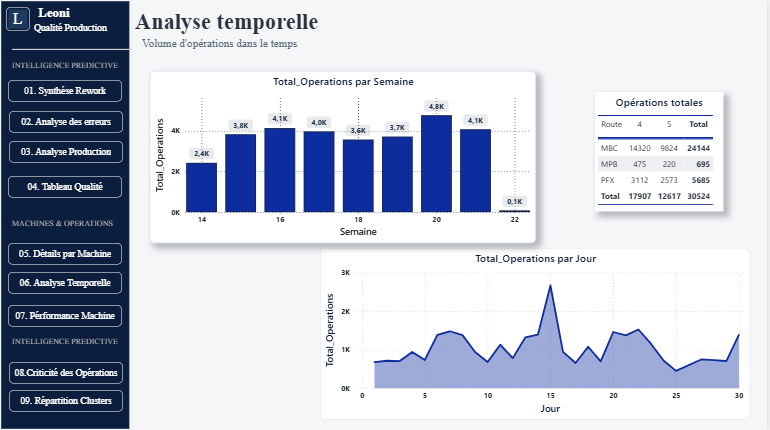

The dashboard page shown, as its layout file describes it:
{"tool":"powerbi","page":{"name":"Page 7","canvas":[1280,720],"ordinal":5},"visuals":[{"type":"areaChart","fields":{"Category":["Sheet1.Jour"],"Y":["Sheet1.Total_Operations"]},"box":[535.7,414.3,717.1,285.7],"z":0},{"type":"columnChart","fields":{"Category":["Sheet1.Semaine"],"Y":["Sheet1.Total_Operations"]},"box":[251.4,120,642.9,287.1],"z":1000},{"type":"pivotTable","title":"Opérations totales","fields":{"Rows":["Sheet1.Route"],"Values":["Sheet1.Total_Operations"],"Columns":["Sheet1.Mois"]},"box":[992.9,155.7,214.3,198.6],"z":2000},{"type":"shape","box":[0,0,221.4,720],"z":3000},{"type":"shape","box":[11.4,12.9,40,40],"z":4000},{"type":"textbox","box":[51.4,7.1,80,45.7],"z":5000},{"type":"textbox","box":[17.1,35.7,204.3,38.6],"z":6000},{"type":"shape","box":[21.4,22.9,200,121.4],"z":7000},{"type":"actionButton","box":[15.7,134.3,190,35.7],"z":8000},{"type":"actionButton","box":[17.1,187.1,190,35.7],"z":9000},{"type":"actionButton","box":[17.1,237.1,190,35.7],"z":10000},{"type":"actionButton","box":[15.7,294.3,190,35.7],"z":11000},{"type":"actionButton","box":[15.7,407.1,190,35.7],"z":12000},{"type":"actionButton","box":[15.7,454.3,190,35.7],"z":13000},{"type":"actionButton","box":[15.7,510,190,35.7],"z":14000},{"type":"actionButton","box":[17.1,604.3,190,35.7],"z":15000},{"type":"actionButton","box":[17.1,651.4,190,35.7],"z":16000},{"type":"textbox","box":[17.1,557.1,188.6,30],"z":17000},{"type":"textbox","box":[17.1,360,188.6,30],"z":18000},{"type":"textbox","box":[17.1,97.1,194.3,30],"z":19000},{"type":"textbox","box":[232.9,58.6,477.1,52.9],"z":20000},{"type":"textbox","box":[221.4,11.4,1041.4,74.3],"z":21000}]}

Visuals, with their boxes on the page's 1280x720 design canvas (x1, y1, x2, y2). These are canvas units, not pixel positions in the 770x430 screenshot, which may show the page scaled, cropped or inside an application window:
areaChart - Sheet1.Jour x Sheet1.Total_Operations: x1=536, y1=414, x2=1253, y2=700
columnChart - Sheet1.Semaine x Sheet1.Total_Operations: x1=251, y1=120, x2=894, y2=407
"Opérations totales" pivotTable: x1=993, y1=156, x2=1207, y2=354
shape: x1=0, y1=0, x2=221, y2=720
shape: x1=11, y1=13, x2=51, y2=53
textbox: x1=51, y1=7, x2=131, y2=53
textbox: x1=17, y1=36, x2=221, y2=74
shape: x1=21, y1=23, x2=221, y2=144
actionButton: x1=16, y1=134, x2=206, y2=170
actionButton: x1=17, y1=187, x2=207, y2=223
actionButton: x1=17, y1=237, x2=207, y2=273
actionButton: x1=16, y1=294, x2=206, y2=330
actionButton: x1=16, y1=407, x2=206, y2=443
actionButton: x1=16, y1=454, x2=206, y2=490
actionButton: x1=16, y1=510, x2=206, y2=546
actionButton: x1=17, y1=604, x2=207, y2=640
actionButton: x1=17, y1=651, x2=207, y2=687
textbox: x1=17, y1=557, x2=206, y2=587
textbox: x1=17, y1=360, x2=206, y2=390
textbox: x1=17, y1=97, x2=211, y2=127
textbox: x1=233, y1=59, x2=710, y2=112
textbox: x1=221, y1=11, x2=1263, y2=86
